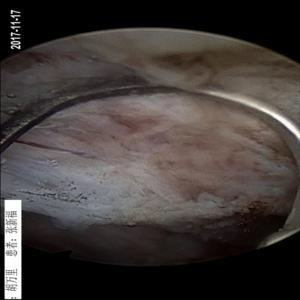film: (10, 133, 100, 175)
